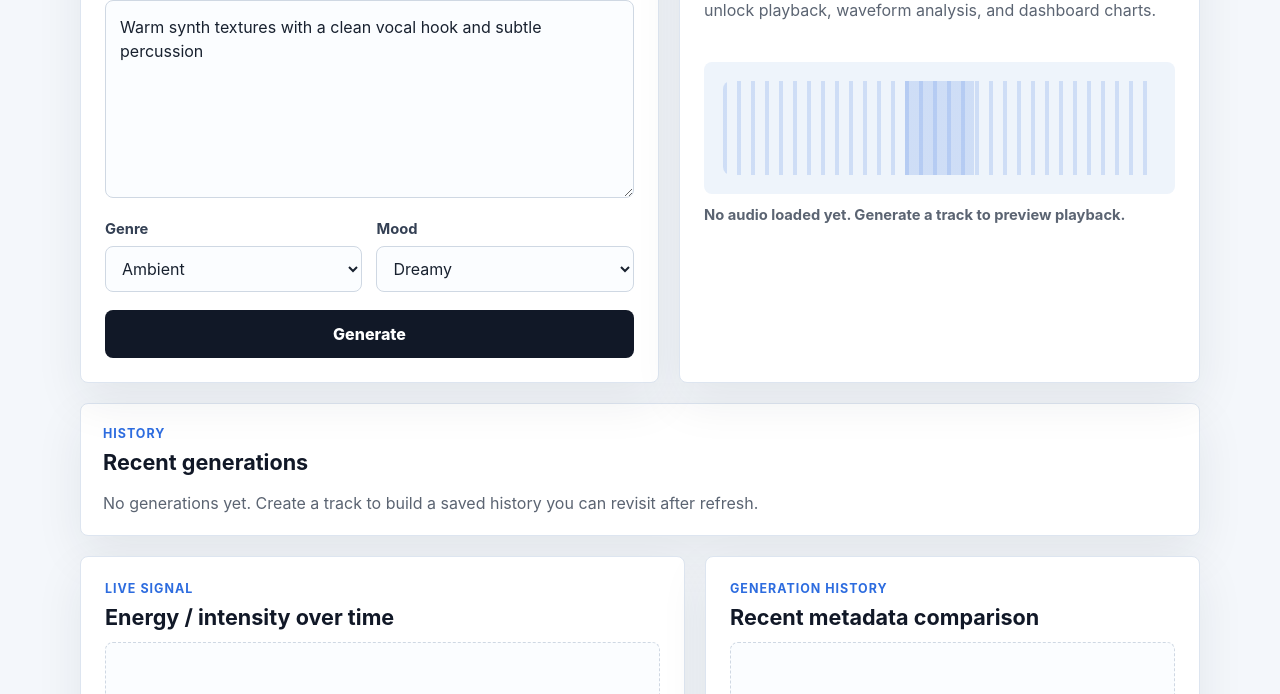
Test: AI Music Dashboard › shows an error fallback when generation fails
(page scrolled)
Click the button "Generate".
click(369, 334)  # box [105, 310, 634, 358]
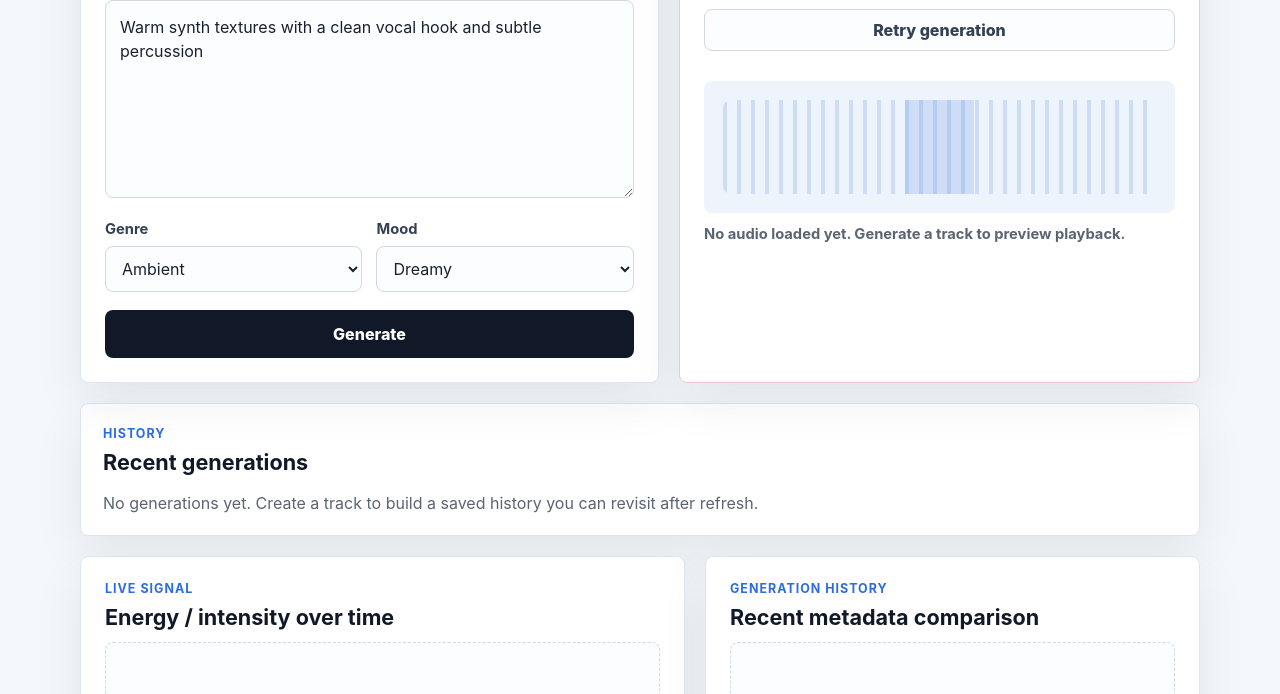
Expected: the button "Retry generation" is shown, [704, 9, 1175, 51]
